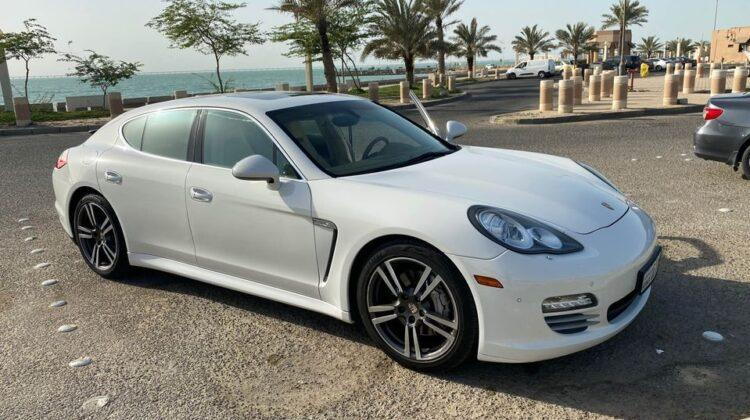porsche: (596, 196, 623, 215)
